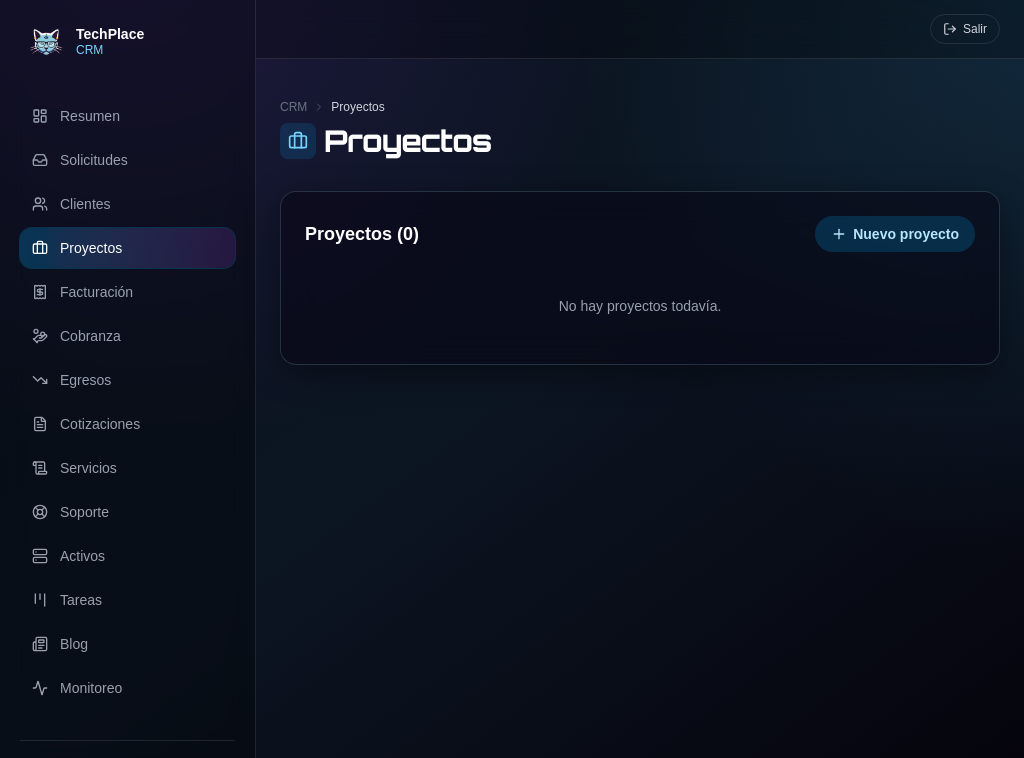
Test: CrmDashboard › switches to Facturación when that nav item is clicked
Click the button "Facturación".
click(128, 292)  # box [20,272,235,312]
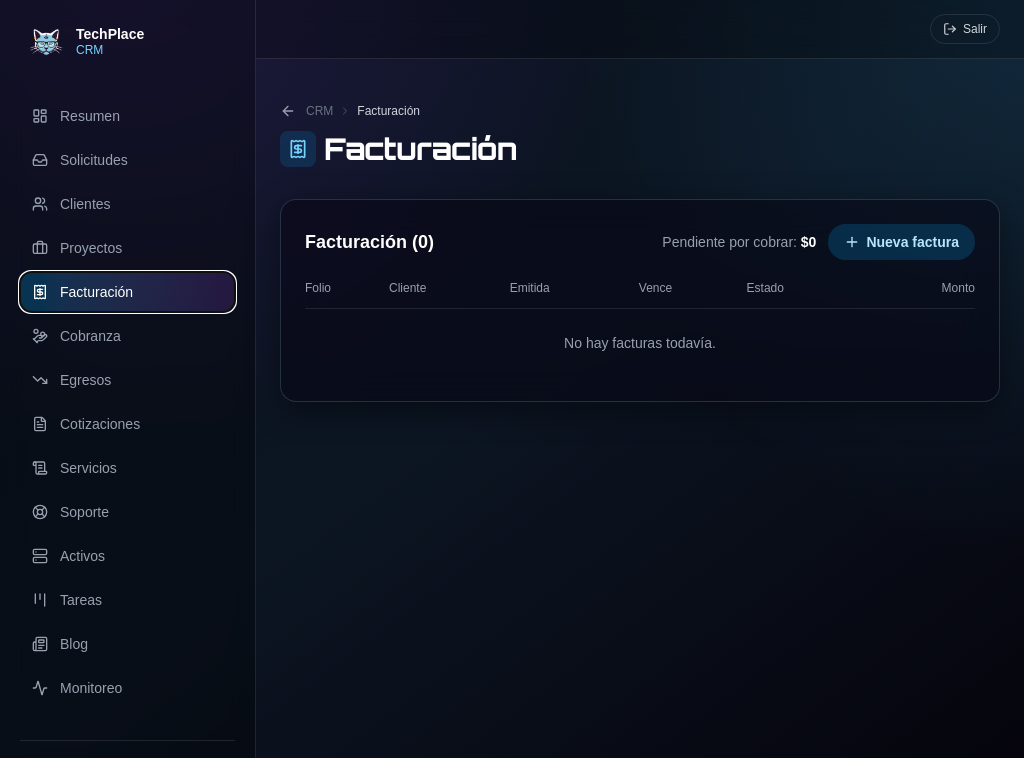
Now the heading "Facturación (0)" is shown, box [305,228,434,256]
